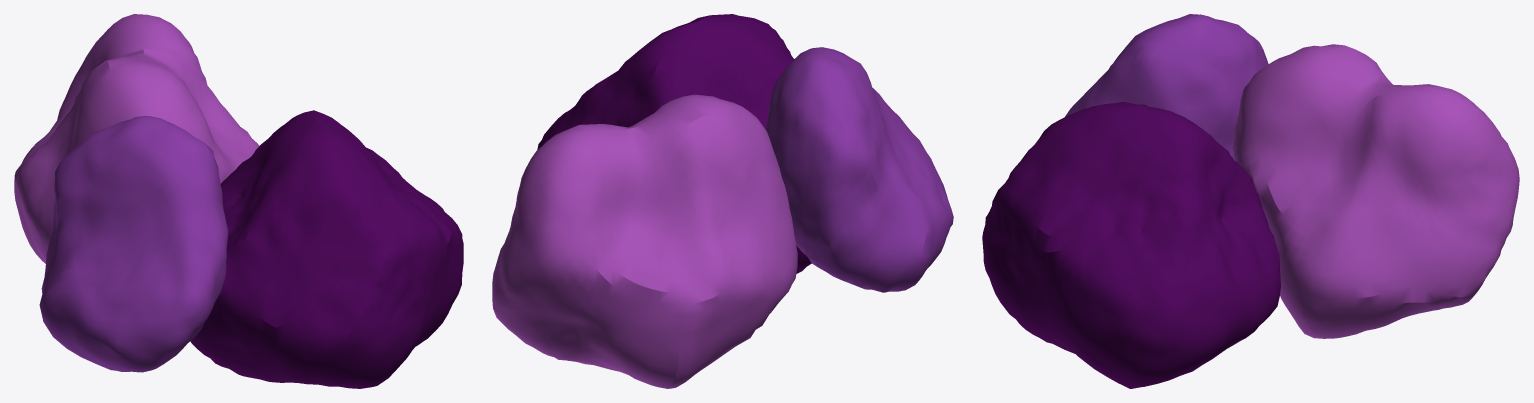
File: pedras roxas.fbx
3 views of the same model, side by side, from view 1: azimuth 30°, elevation 25°; view 2: azimuth 150°, elevation 25°; view 3: azimuth 270°, elevation 25° (orthographic). The views are drawn at different scales.
Parts seen in each view (by area): view 1: rock.004; view 2: rock.004; view 3: rock.004.
Part boxes in pixels (x1=…): rock.004: x1=14, y1=14, x2=463, y2=388; rock.004: x1=492, y1=14, x2=953, y2=388; rock.004: x1=982, y1=14, x2=1519, y2=388.
Size of the model in its own units: 187 by 121 by 220.
